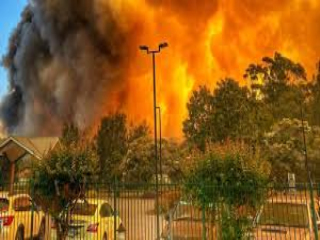fire: (196, 5, 313, 91), (144, 17, 195, 139)
smoke: (5, 3, 141, 144)
